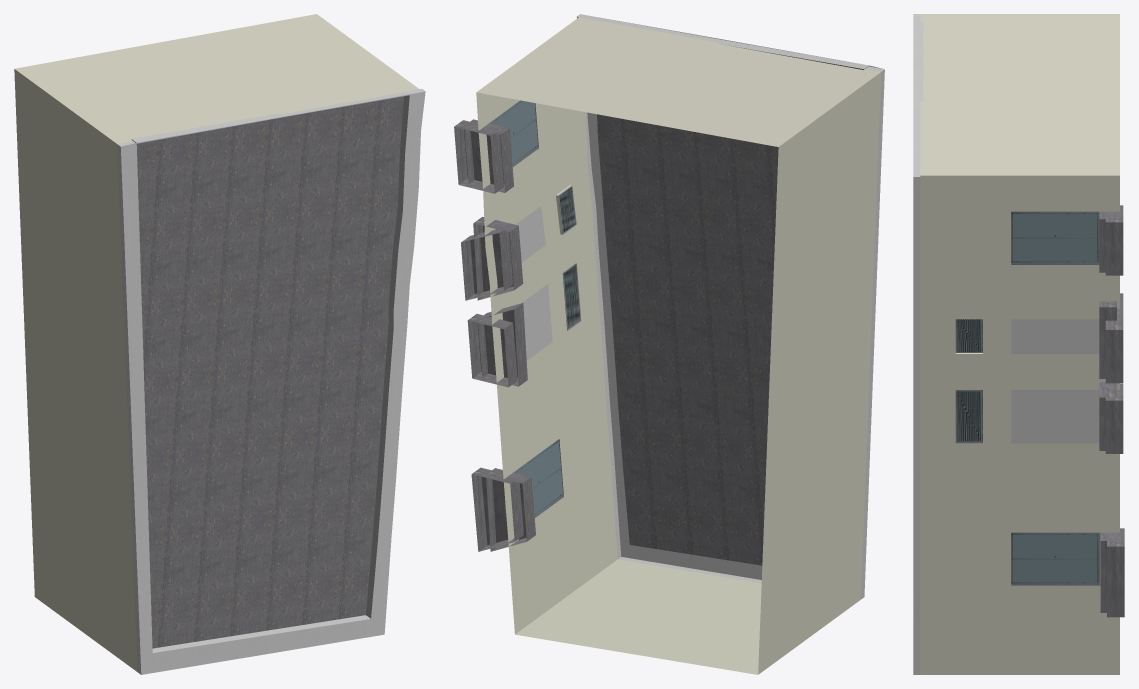
Rendered from Ryytli_tn_8_1-origo.obj.
3 views of the same model, side by side, from view 1: azimuth 30°, elevation 25°; view 2: azimuth 150°, elevation 25°; view 3: azimuth 270°, elevation 25° (orthographic). The views are drawn at different scales.
Parts seen in each view (by area): view 1: polySurface1; view 2: polySurface1; view 3: polySurface1.
Boxes of the visible parts, x1,y1,x2,y2 form: polySurface1: [14, 14, 425, 674]; polySurface1: [454, 14, 884, 674]; polySurface1: [913, 14, 1124, 674].
Size of the model in its own units: 8.88 by 14.5 by 5.18.
